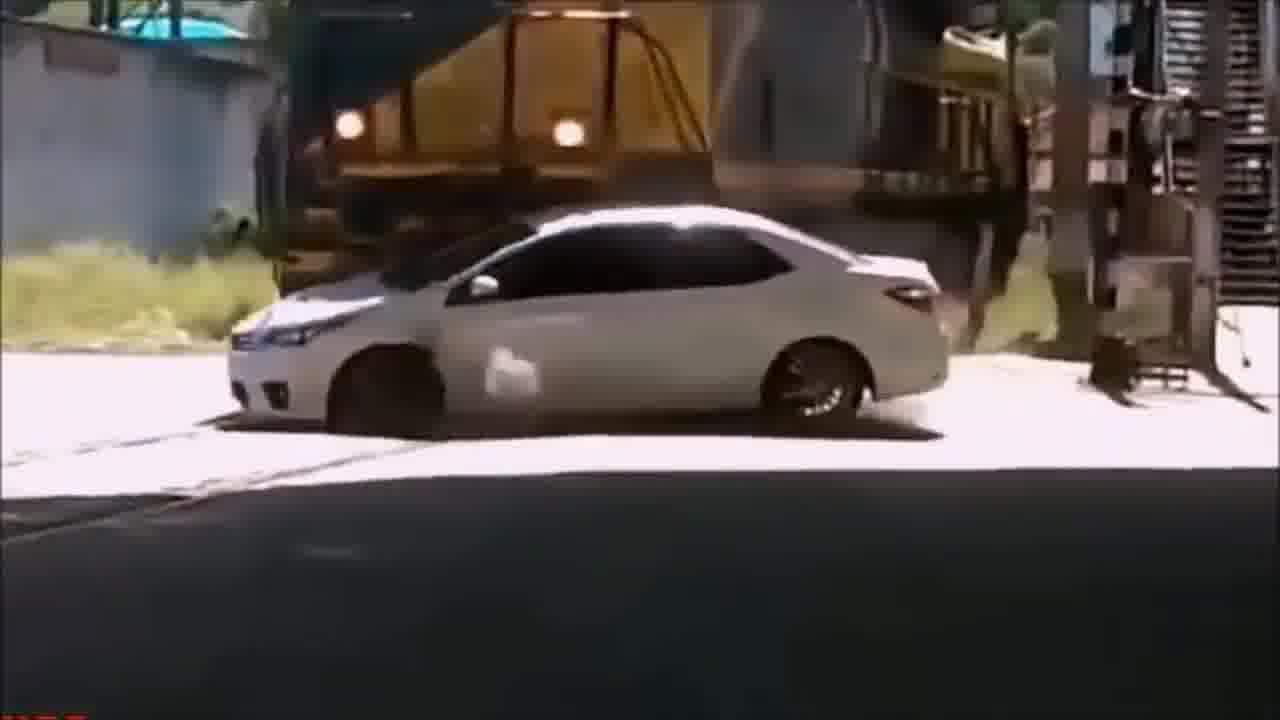crossing railway track: (201, 213, 998, 455)
